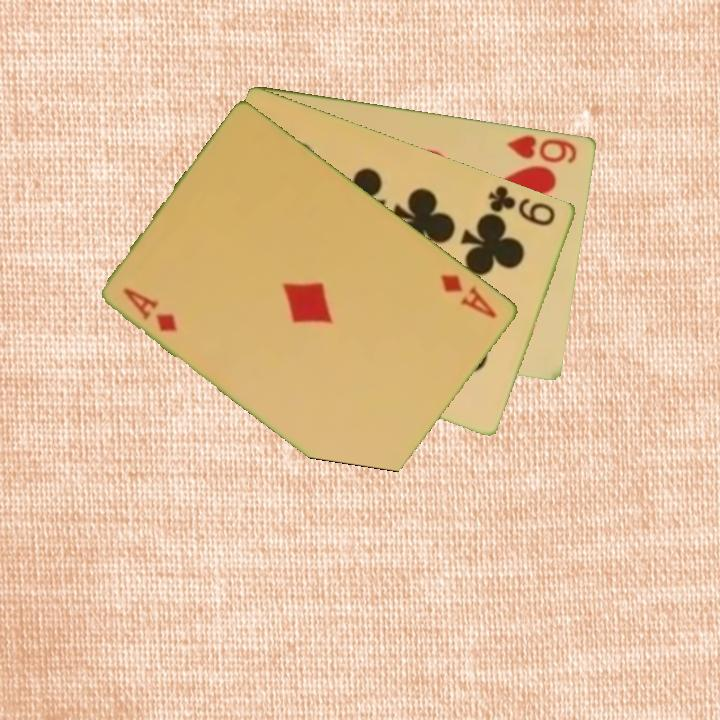6h: (504, 131, 580, 166)
9c: (485, 181, 559, 229)
Ad: (437, 270, 500, 322), (119, 284, 182, 335)
